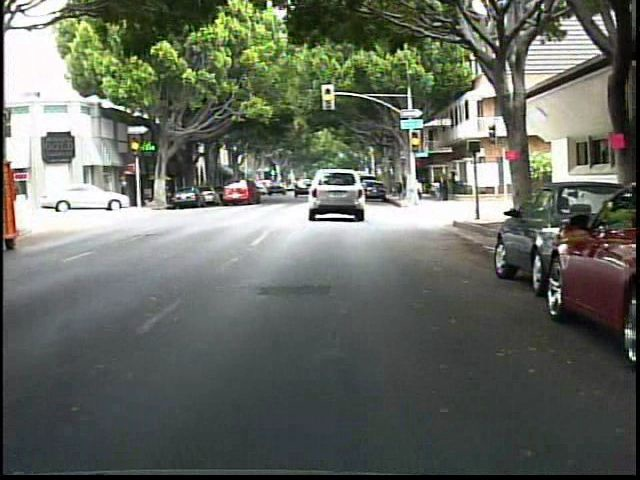person: (404, 171, 425, 210), (440, 168, 453, 204), (448, 165, 462, 196), (432, 171, 445, 202)
